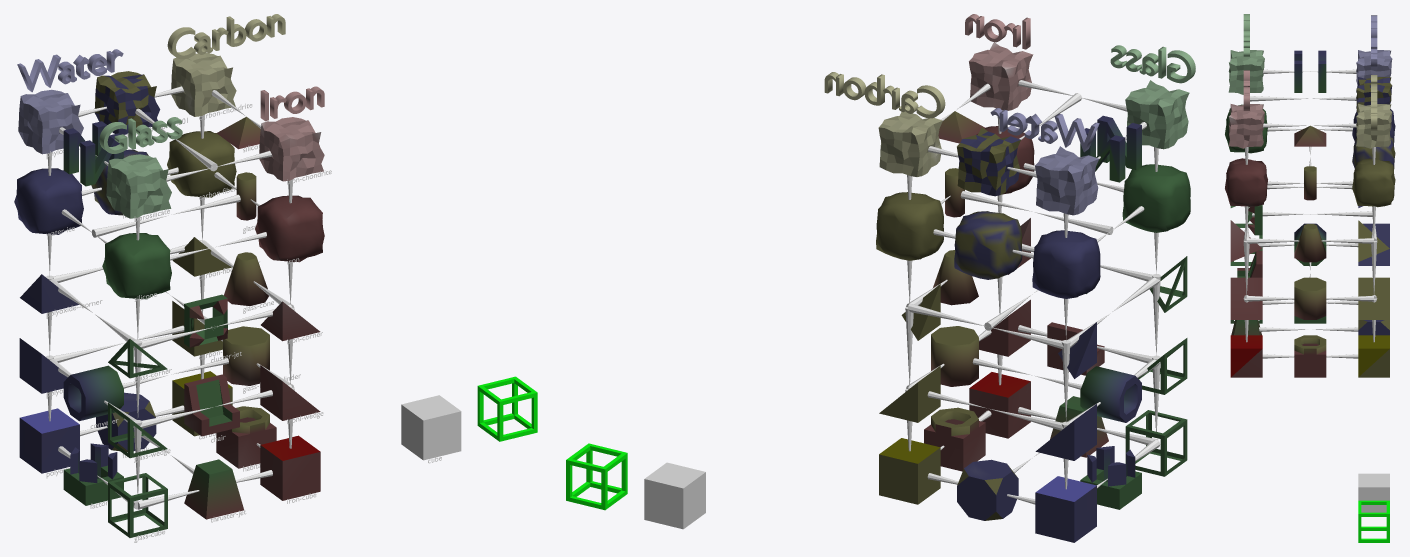
Rendered from crafting tree.glb.
3 views of the same model, side by side, from view 1: azimuth 30°, elevation 25°; view 2: azimuth 150°, elevation 25°; view 3: azimuth 270°, elevation 25° (orthographic). The views are drawn at different scales.
Visible parts, largest first — view 1: silicone, iron, water-ice, borosilicate, carbon-fiber, iron-chondrite, cube, iron-cube, carbon-chondrite, phylosilicate, polyoxide--cube, mud (+28 smaller); view 2: water-ice, food, carbon-fiber, silicone, cube, phylosilicate, polyoxide--cube, mud, carbon-fiber-cube, carbon-chondrite, iron-chondrite, borosilicate (+26 smaller); view 3: carbon-fiber, iron, iron-chondrite, iron-cube, habitat, carbon-fiber-cube, cylinder, carbon-chondrite, borosilicate, ironl-wedge, carbon-fiber-wedge, cube (+22 smaller).
Part boxes in pixels (x1=…): silicone: x1=102, y1=233, x2=171, y2=299; iron: x1=255, y1=195, x2=324, y2=262; water-ice: x1=14, y1=168, x2=83, y2=234; borosilicate: x1=106, y1=154, x2=171, y2=218; carbon-fiber: x1=167, y1=131, x2=236, y2=197; iron-chondrite: x1=259, y1=117, x2=324, y2=181; cube: x1=401, y1=395, x2=461, y2=460; iron-cube: x1=260, y1=435, x2=320, y2=500; carbon-chondrite: x1=171, y1=53, x2=236, y2=116; phylosilicate: x1=18, y1=89, x2=83, y2=154; polyoxide--cube: x1=19, y1=408, x2=79, y2=473; mud: x1=94, y1=71, x2=160, y2=134; water-ice: x1=1032, y1=230, x2=1100, y2=298; food: x1=954, y1=211, x2=1022, y2=279; carbon-fiber: x1=876, y1=192, x2=943, y2=260; silicone: x1=1122, y1=164, x2=1190, y2=232; cube: x1=644, y1=462, x2=705, y2=529; phylosilicate: x1=1035, y1=146, x2=1098, y2=215; polyoxide--cube: x1=1035, y1=476, x2=1096, y2=542; mud: x1=957, y1=127, x2=1020, y2=196; carbon-fiber-cube: x1=879, y1=438, x2=940, y2=504; carbon-chondrite: x1=878, y1=111, x2=942, y2=176; iron-chondrite: x1=969, y1=42, x2=1033, y2=110; borosilicate: x1=1125, y1=80, x2=1189, y2=149; carbon-fiber: x1=1352, y1=158, x2=1395, y2=207; iron: x1=1225, y1=158, x2=1267, y2=207; iron-chondrite: x1=1228, y1=104, x2=1264, y2=148; iron-cube: x1=1230, y1=335, x2=1262, y2=377; habitat: x1=1294, y1=335, x2=1326, y2=377; carbon-fiber-cube: x1=1358, y1=335, x2=1389, y2=377; cylinder: x1=1294, y1=277, x2=1326, y2=319; carbon-chondrite: x1=1356, y1=104, x2=1392, y2=148; borosilicate: x1=1228, y1=50, x2=1264, y2=94; ironl-wedge: x1=1230, y1=277, x2=1262, y2=319; carbon-fiber-wedge: x1=1358, y1=277, x2=1389, y2=319; cube: x1=1358, y1=473, x2=1389, y2=512.
Bounding box in the file's own units: 13.45 × 12.19 × 5.37.
